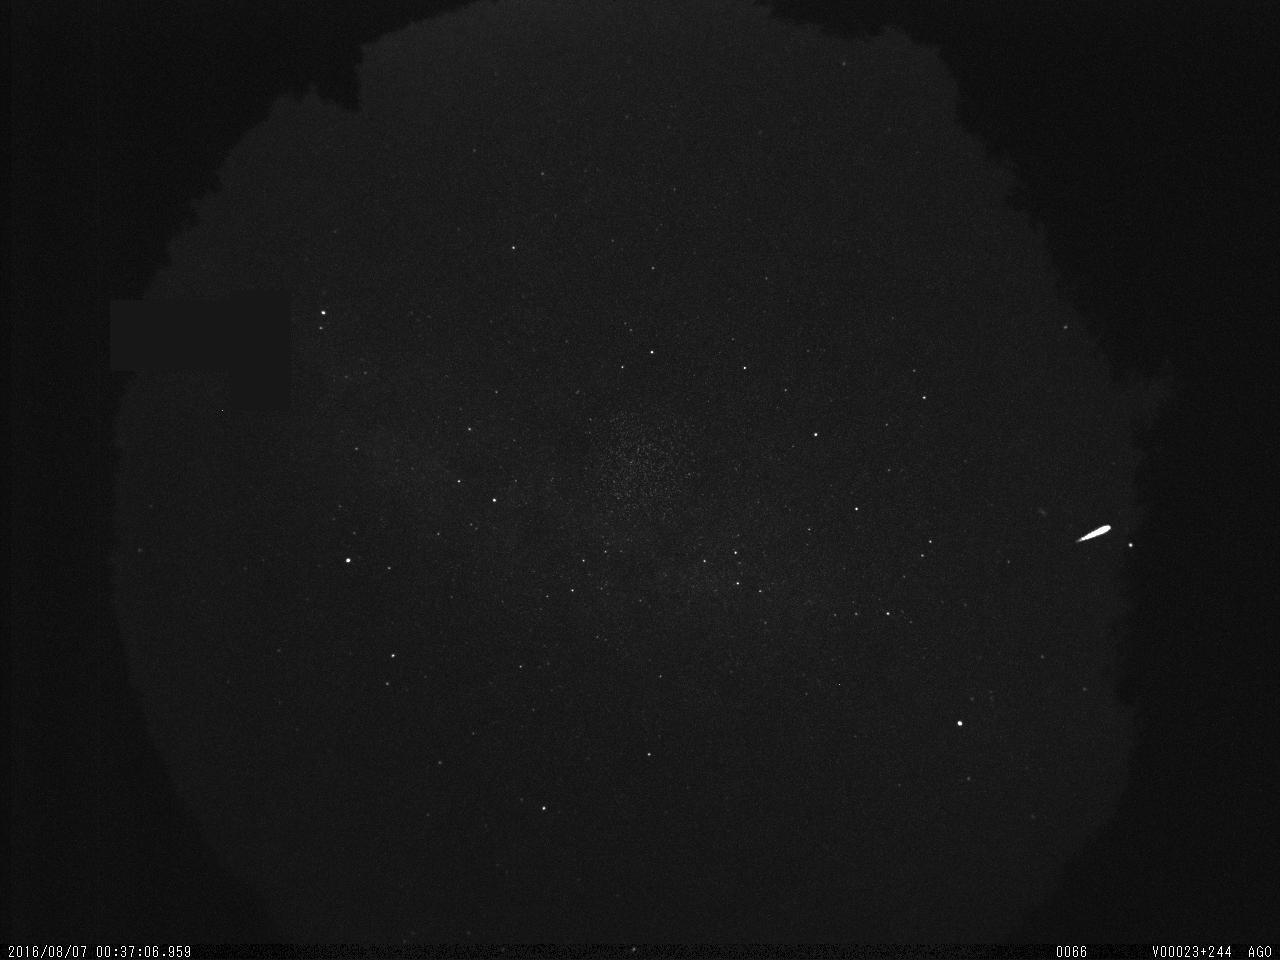meteor: (1077, 509, 1117, 558)
